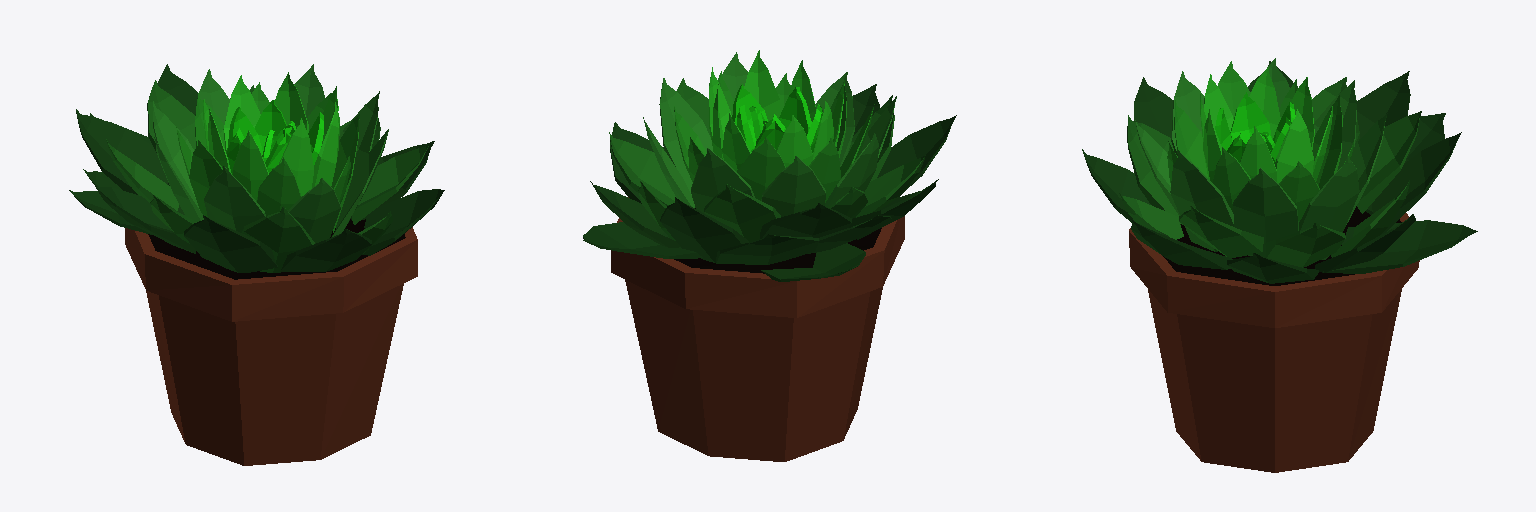
3 views of the same model, side by side, from view 1: azimuth 30°, elevation 25°; view 2: azimuth 150°, elevation 25°; view 3: azimuth 270°, elevation 25° (orthographic).
Visible parts, largest first — view 1: pCube48_Mesh.001; view 2: pCube48_Mesh.001; view 3: pCube48_Mesh.001.
Boxes of the visible parts, <box> form: pCube48_Mesh.001: <box>69,64,444,465</box>; pCube48_Mesh.001: <box>583,50,956,461</box>; pCube48_Mesh.001: <box>1082,58,1477,472</box>.
Bounding box in the file's own units: 0.9451 × 0.9202 × 0.9755.